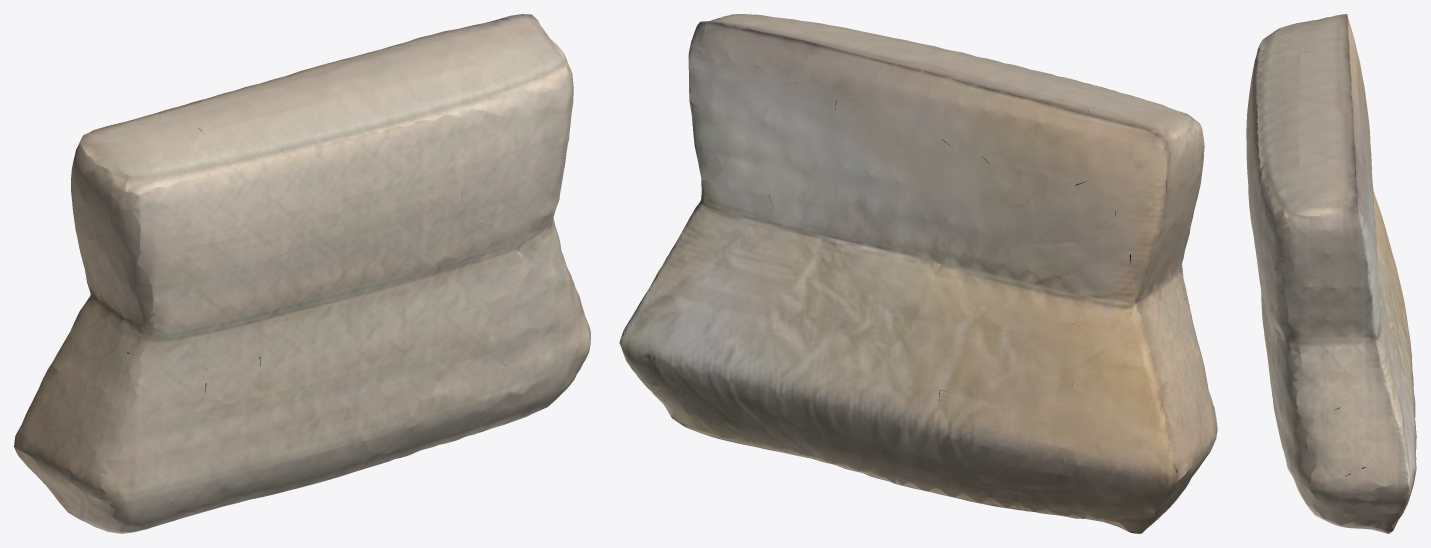
The picture shows the model from 3 angles, left to right: view 1: azimuth 30°, elevation 25°; view 2: azimuth 150°, elevation 25°; view 3: azimuth 270°, elevation 25°; orthographic projection. The views are drawn at different scales.
Parts seen in each view (by area): view 1: world; view 2: world; view 3: world.
Part boxes in pixels (bbox=[...]): world: bbox=[14, 14, 590, 533]; world: bbox=[619, 14, 1217, 533]; world: bbox=[1246, 14, 1416, 533].
Size of the model in its own units: 0.8984 by 0.6333 by 0.2811.
1 material, 1 textured.
